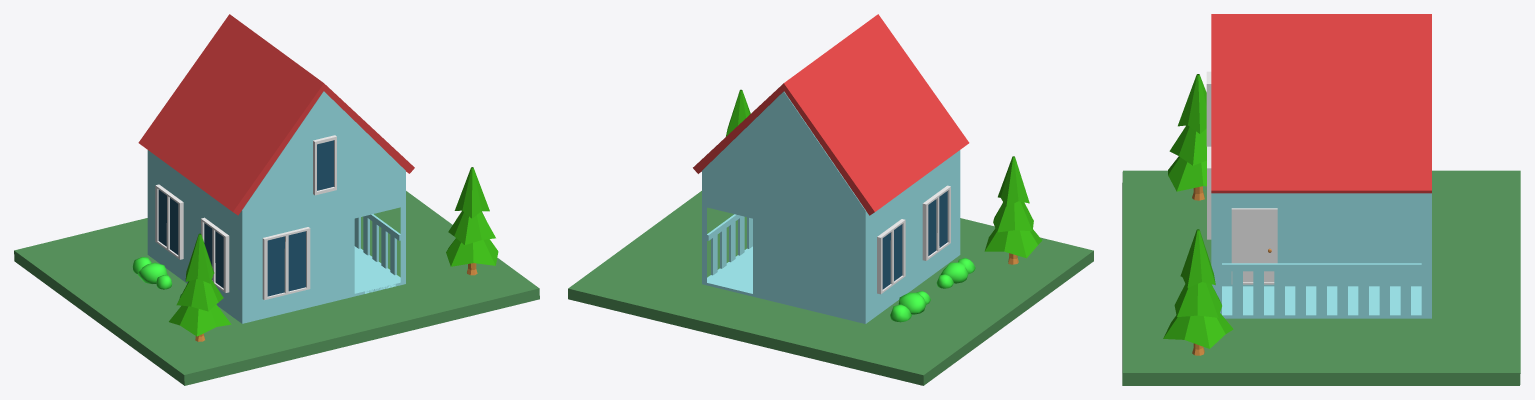
Rendered from house-9.fbx.
3 views of the same model, side by side, from view 1: azimuth 30°, elevation 25°; view 2: azimuth 150°, elevation 25°; view 3: azimuth 270°, elevation 25° (orthographic). The views are drawn at different scales.
Parts seen in each view (by area): view 1: Plane, Cube, Cube.001, christmas tree, big window 1, christmas tree.001, big window 1.002, big window 1.001, Cube.002; view 2: Plane, Cube, Cube.001, christmas tree.001, big window 1.001, big window 1.002, christmas tree, Icosphere; view 3: Plane, Cube.001, Cube, christmas tree, christmas tree.001, Cube.005, big window 1, Cube.002.
Part boxes in pixels (box(x1,y1,x2,y2)): Plane: box(14, 191, 539, 385); Cube: box(147, 91, 405, 323); Cube.001: box(138, 14, 414, 215); christmas tree: box(446, 167, 498, 275); big window 1: box(262, 227, 310, 300); christmas tree.001: box(169, 233, 231, 341); big window 1.002: box(155, 184, 183, 259); big window 1.001: box(201, 217, 229, 292); Cube.002: box(313, 135, 336, 195); Plane: box(568, 191, 1093, 385); Cube: box(702, 91, 960, 323); Cube.001: box(693, 14, 969, 215); christmas tree.001: box(984, 156, 1042, 264); big window 1.001: box(922, 185, 950, 260); big window 1.002: box(877, 219, 905, 294); christmas tree: box(726, 89, 750, 136); Icosphere: box(898, 292, 926, 314); Plane: box(1122, 170, 1520, 385); Cube.001: box(1211, 14, 1431, 193); Cube: box(1211, 193, 1431, 318); christmas tree: box(1163, 229, 1233, 355); christmas tree.001: box(1168, 74, 1206, 200); Cube.005: box(1231, 208, 1277, 284); big window 1: box(1207, 146, 1211, 239); Cube.002: box(1206, 71, 1211, 146).
Size of the model in its own units: 2949 by 1836 by 2448.
